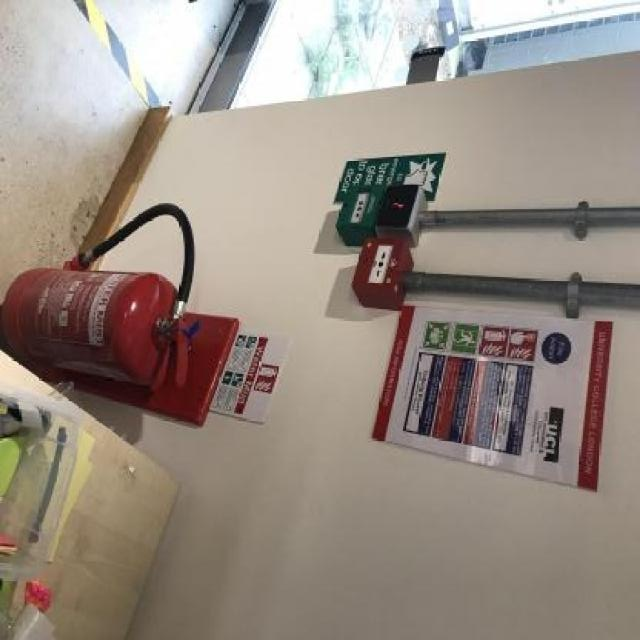fire extinguisher: (0, 195, 203, 399)
